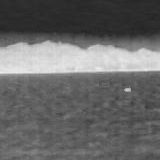Target: (123, 87, 132, 93)
